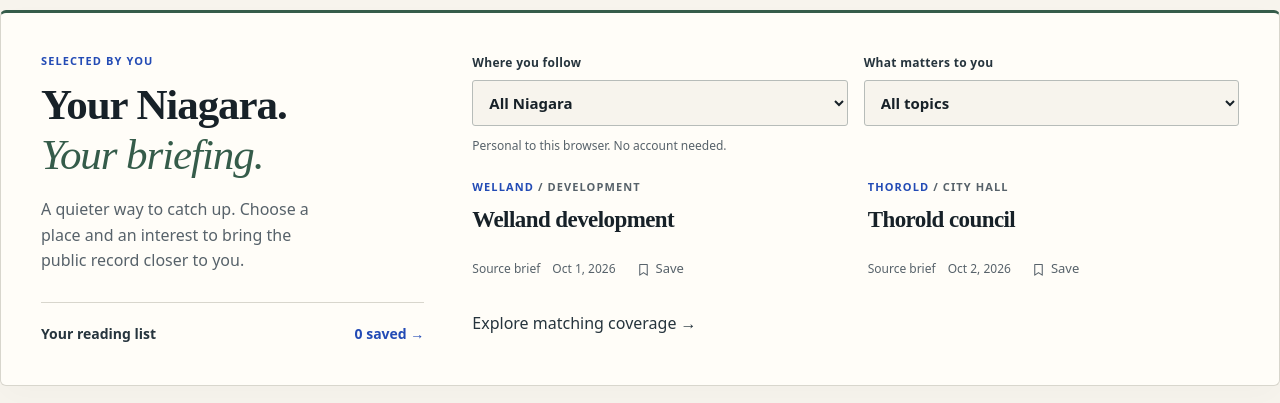
Test: keeps filtering usable when saving fails
The image size is (1280, 403).
Select "Thorold" in the dropdown labelled "Where you follow" at (660, 103), box [472, 80, 848, 126]
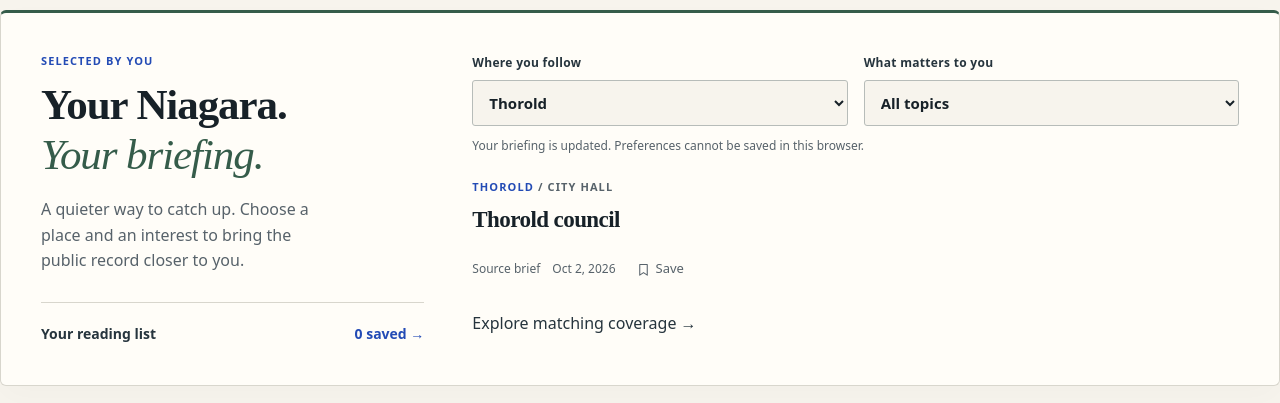
Expected: the link "Thorold council" is shown, [472, 207, 620, 232]
Expected: the link "Welland development" is gone
Expected: the message shows "cannot be saved", [472, 137, 864, 154]
